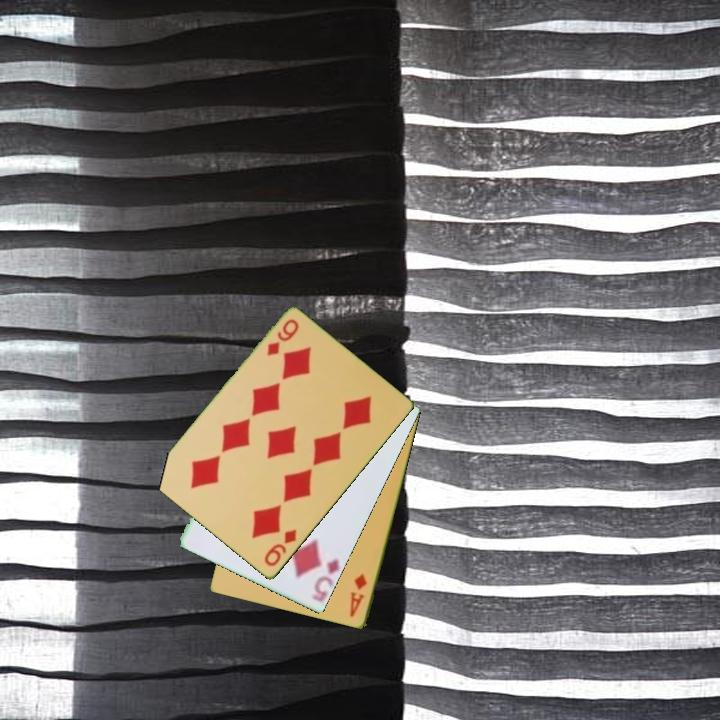5d: (310, 555, 342, 603)
9d: (261, 526, 300, 570), (263, 316, 302, 359)
Ad: (346, 571, 370, 620)
